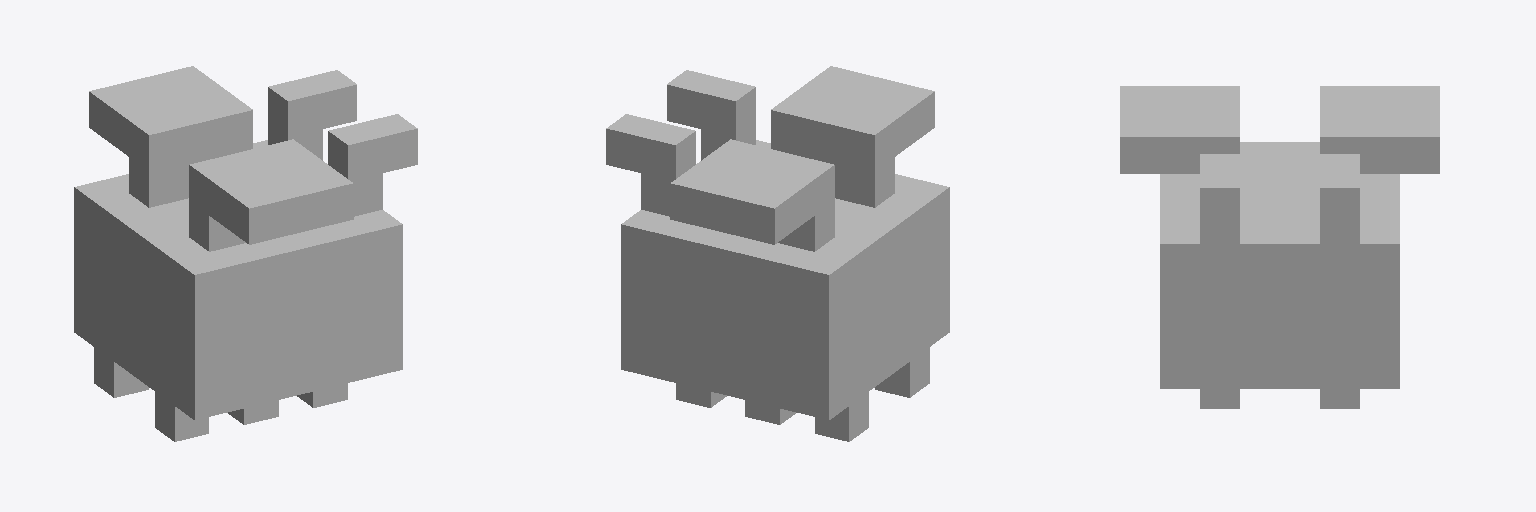
File: bee.obj
3 views of the same model, side by side, from view 1: azimuth 30°, elevation 25°; view 2: azimuth 150°, elevation 25°; view 3: azimuth 270°, elevation 25° (orthographic).
Parts seen in each view (by area): view 1: bee; view 2: bee; view 3: bee.
Part boxes in pixels (left/top/right/bottom): bee: left=74, top=66, right=417, bottom=441; bee: left=606, top=66, right=949, bottom=441; bee: left=1120, top=86, right=1439, bottom=408.
Bounding box in the file's own units: 7 × 7 × 8.